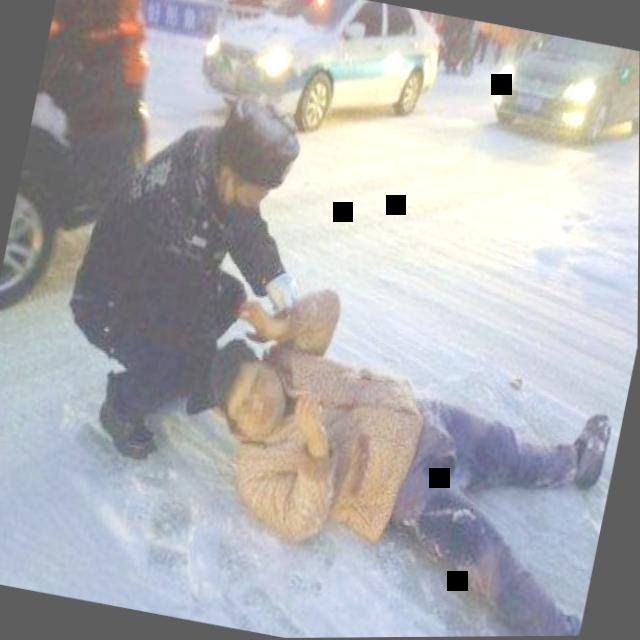Fall-Detected: (153, 274, 636, 639)
